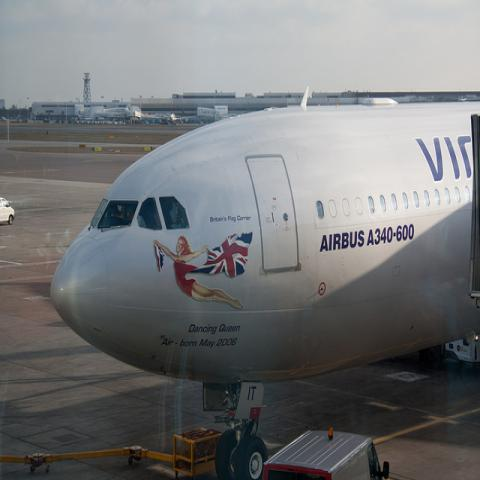car: (0, 197, 15, 226)
truck: (263, 427, 391, 475)
